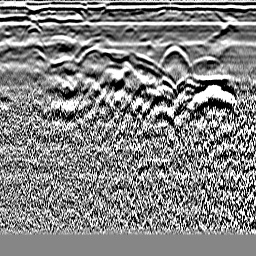cavity: (121, 22, 136, 36)
